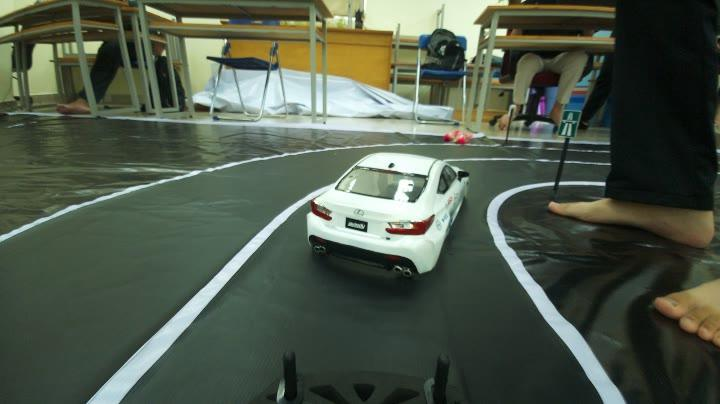car: (294, 146, 464, 294)
highway_entry: (551, 100, 582, 148)
